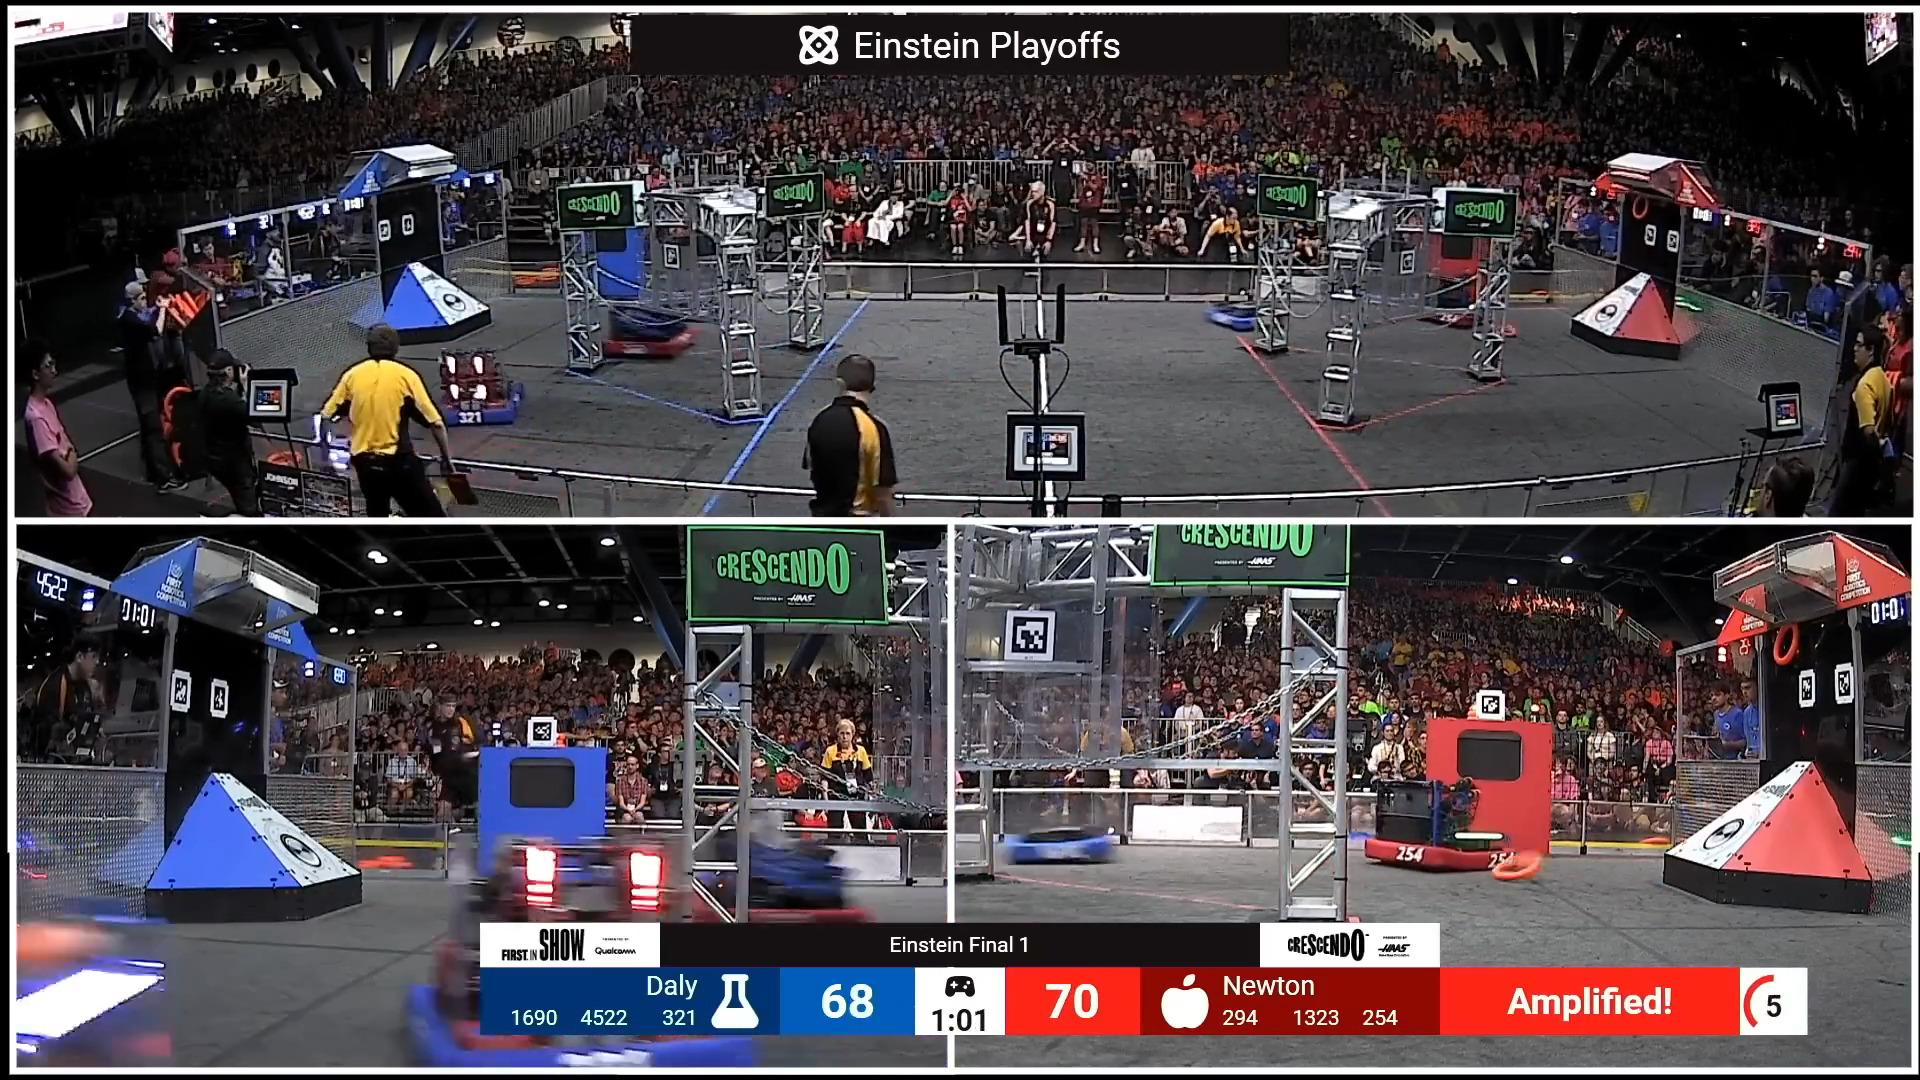blue_idle: (400, 342, 535, 430), (1004, 818, 1116, 868), (1197, 282, 1290, 335)
note: (1490, 840, 1551, 891), (1762, 616, 1804, 670)
red_idle: (1342, 762, 1498, 878), (588, 298, 702, 371)
